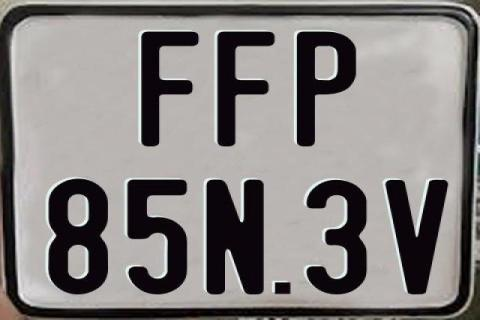0: (126, 180, 189, 300), (305, 179, 368, 299), (47, 177, 112, 293)
F: (139, 29, 198, 149), (218, 29, 278, 147)
N: (204, 178, 266, 298)
P: (295, 29, 357, 149)
V: (383, 179, 449, 295)
